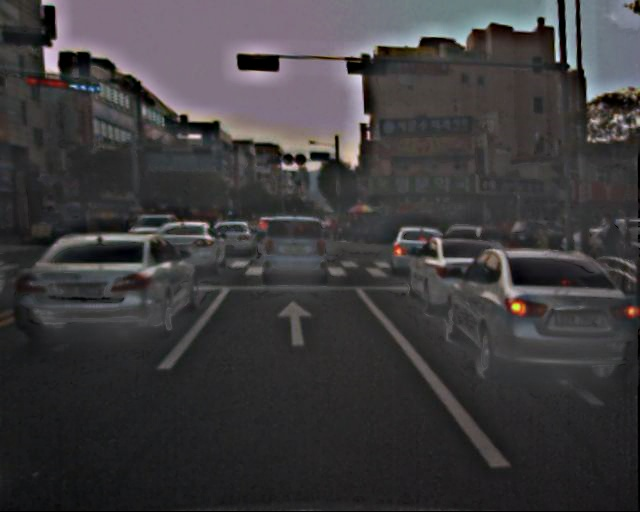person: (595, 212, 625, 285)
